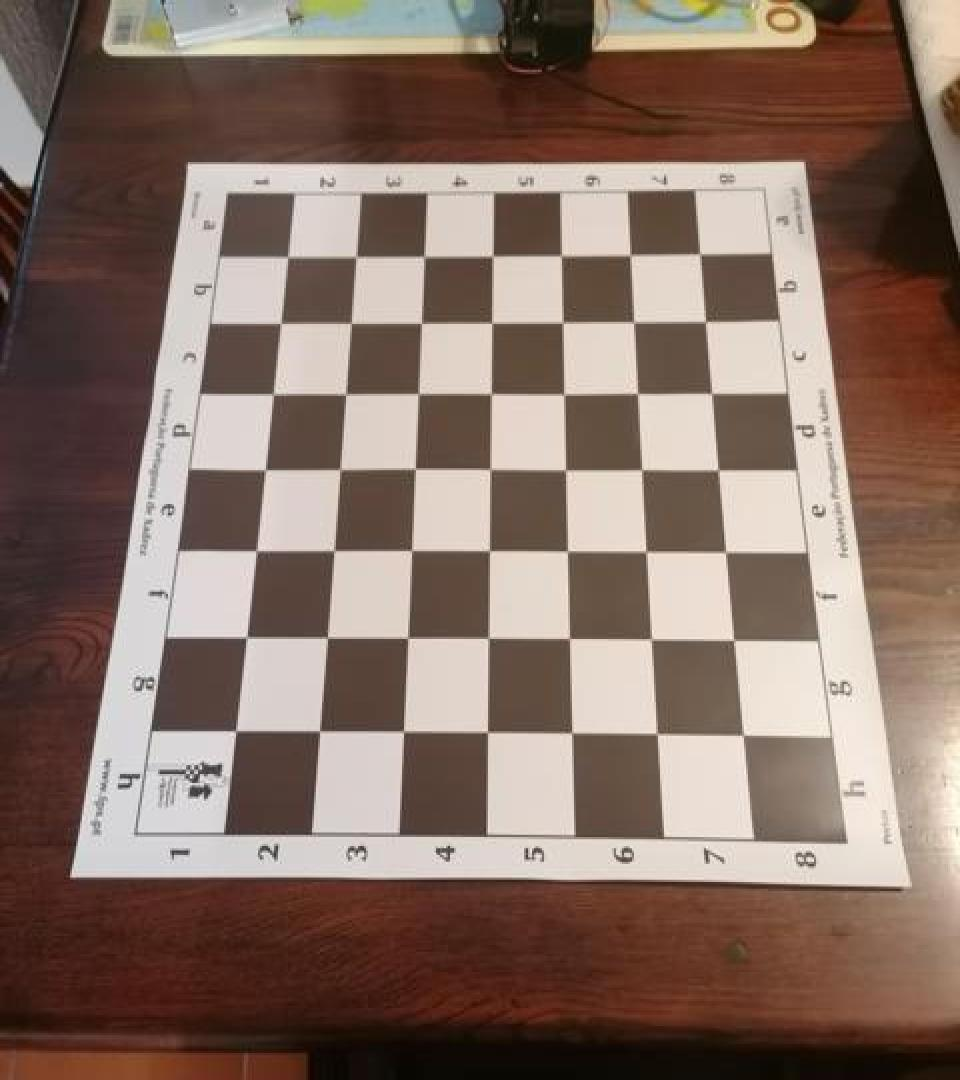xcorner: (687, 233, 717, 267), (617, 233, 647, 267), (548, 234, 578, 268), (479, 234, 509, 268), (409, 234, 439, 268), (341, 235, 371, 269), (272, 235, 302, 269), (693, 300, 723, 334), (621, 300, 651, 334), (335, 302, 365, 336), (265, 302, 295, 336), (256, 374, 286, 408), (706, 450, 736, 484), (629, 450, 659, 484), (552, 450, 582, 484), (475, 451, 505, 485), (399, 451, 429, 485), (323, 451, 353, 485), (248, 451, 278, 485), (713, 533, 743, 567), (633, 533, 663, 567), (554, 533, 584, 567), (474, 533, 504, 567), (395, 533, 425, 567), (317, 533, 347, 567), (239, 533, 269, 567), (721, 623, 751, 657), (638, 622, 668, 656), (555, 622, 585, 656), (473, 622, 503, 656), (391, 621, 421, 655), (310, 621, 340, 655), (229, 621, 259, 655), (729, 719, 759, 753), (643, 719, 673, 753), (557, 718, 587, 752), (472, 718, 502, 752), (387, 716, 417, 750), (302, 716, 332, 750), (549, 302, 579, 335), (478, 302, 508, 335), (406, 302, 436, 335), (699, 374, 729, 407), (625, 374, 655, 407), (550, 374, 580, 407), (477, 374, 507, 407), (403, 374, 433, 407), (330, 374, 360, 407), (218, 716, 248, 749)
